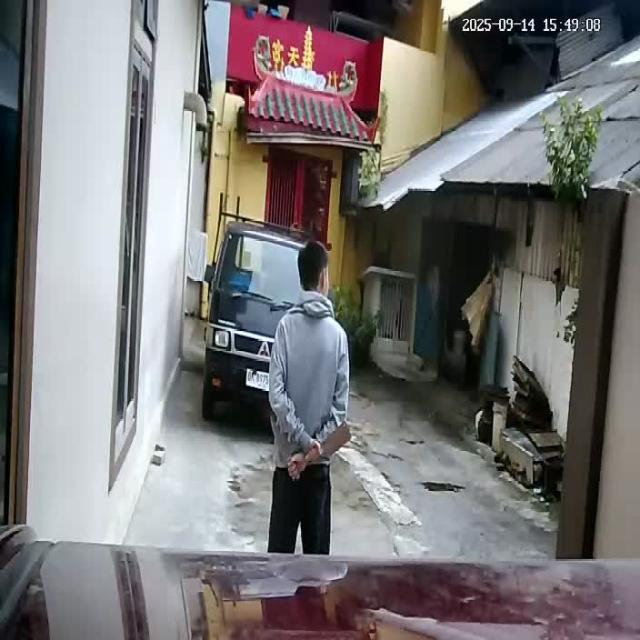senjata_tajam: (322, 417, 354, 460), (268, 410, 292, 462)
